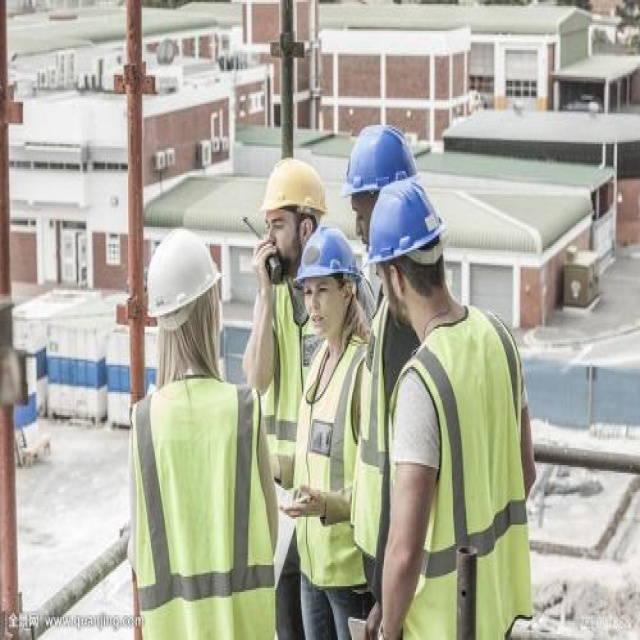Helmet: (365, 177, 462, 339), (136, 216, 232, 368), (339, 118, 423, 240), (255, 149, 332, 278), (296, 223, 366, 349)
Reflective vest: (386, 308, 541, 640), (129, 366, 282, 640), (295, 338, 369, 590), (352, 299, 402, 562), (258, 275, 317, 482)
